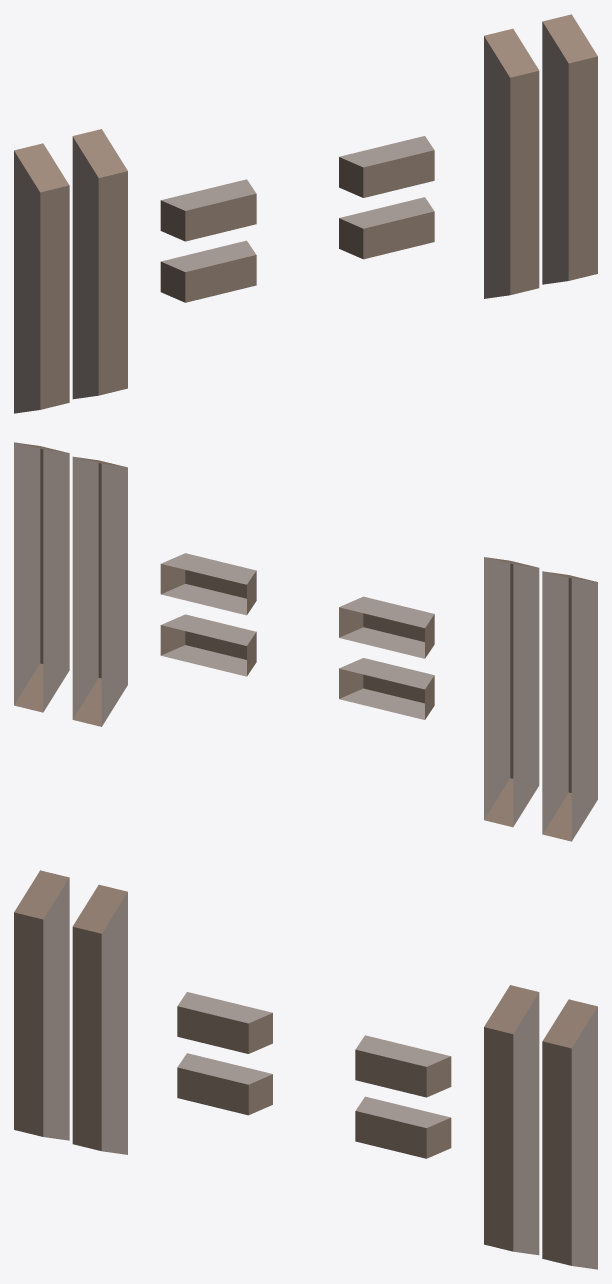
Rendered from TV Mount.fbx.
3 renders of one model, top to bottom at view 1: azimuth 30°, elevation 25°; view 2: azimuth 150°, elevation 25°; view 3: azimuth 330°, elevation 25°, orthographic.
Parts seen in each view (by area): view 1: TV Mount; view 2: TV Mount; view 3: TV Mount.
Boxes of the visible parts, x1,y1,x2,y2 form: TV Mount: (14, 14, 597, 413); TV Mount: (14, 442, 597, 841); TV Mount: (14, 870, 597, 1269).
Size of the model in its own units: 138 by 11.28 by 62.45.
